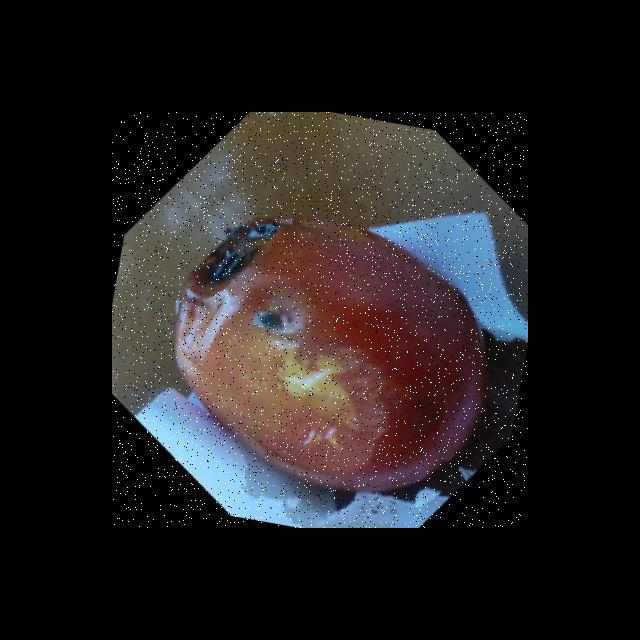tomato: (168, 199, 489, 492)
